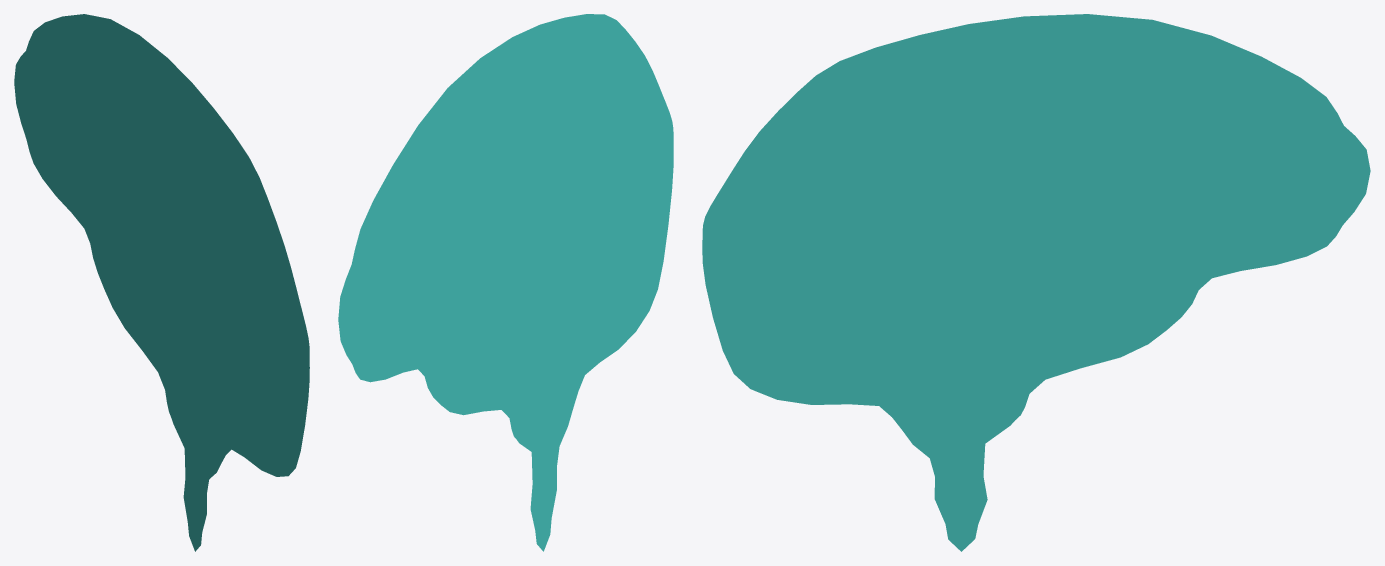
Rendered from Brain1.glb.
The picture shows the model from 3 angles, left to right: view 1: azimuth 30°, elevation 25°; view 2: azimuth 150°, elevation 25°; view 3: azimuth 270°, elevation 25°; orthographic projection. The views are drawn at different scales.
Parts seen in each view (by area): view 1: Plane; view 2: Plane; view 3: Plane.
Boxes of the visible parts, x1,y1,x2,y2 form: Plane: (14,14,309,551); Plane: (338,14,673,551); Plane: (702,14,1370,551).
Bounding box in the file's own units: 1.29e-07 × 2.68 × 3.02.
